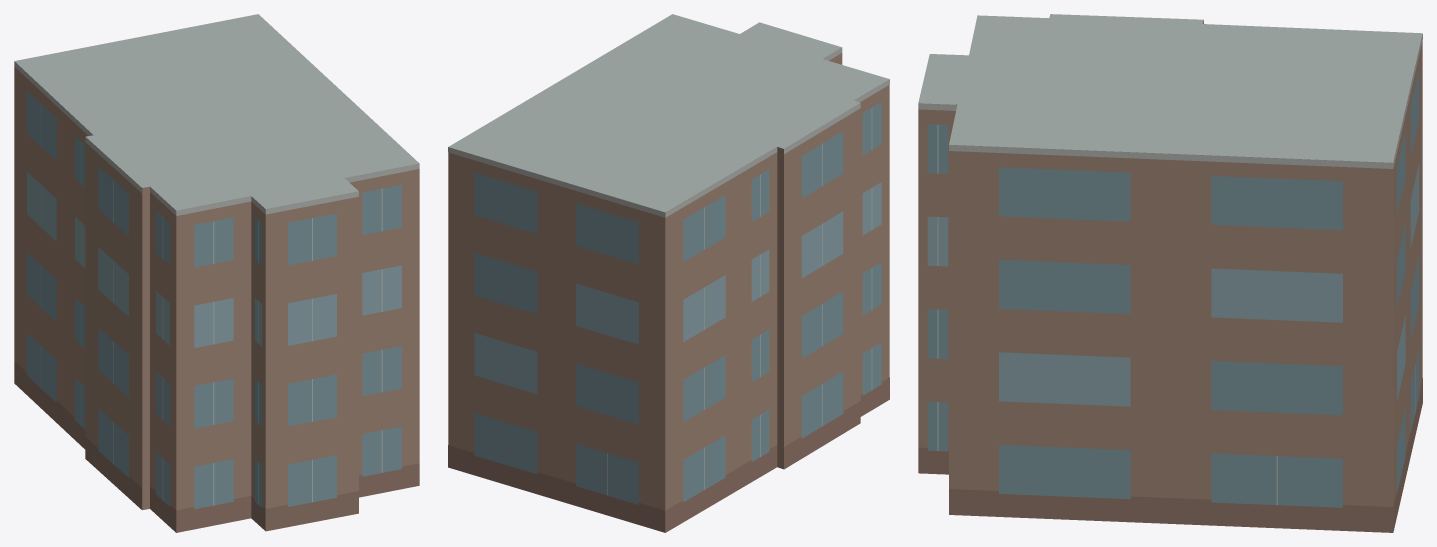
File: survey-upis-32501546.glb
The picture shows the model from 3 angles, left to right: view 1: azimuth 30°, elevation 25°; view 2: azimuth 150°, elevation 25°; view 3: azimuth 270°, elevation 25°; orthographic projection. The views are drawn at different scales.
Parts seen in each view (by area): view 1: survey-upis-32501546.tmp; view 2: survey-upis-32501546.tmp; view 3: survey-upis-32501546.tmp.
Boxes of the visible parts, x1,y1,x2,y2 form: survey-upis-32501546.tmp: [14, 14, 419, 532]; survey-upis-32501546.tmp: [448, 14, 889, 532]; survey-upis-32501546.tmp: [918, 14, 1422, 532].
Size of the model in its own units: 12.6 by 14.6 by 18.05.
